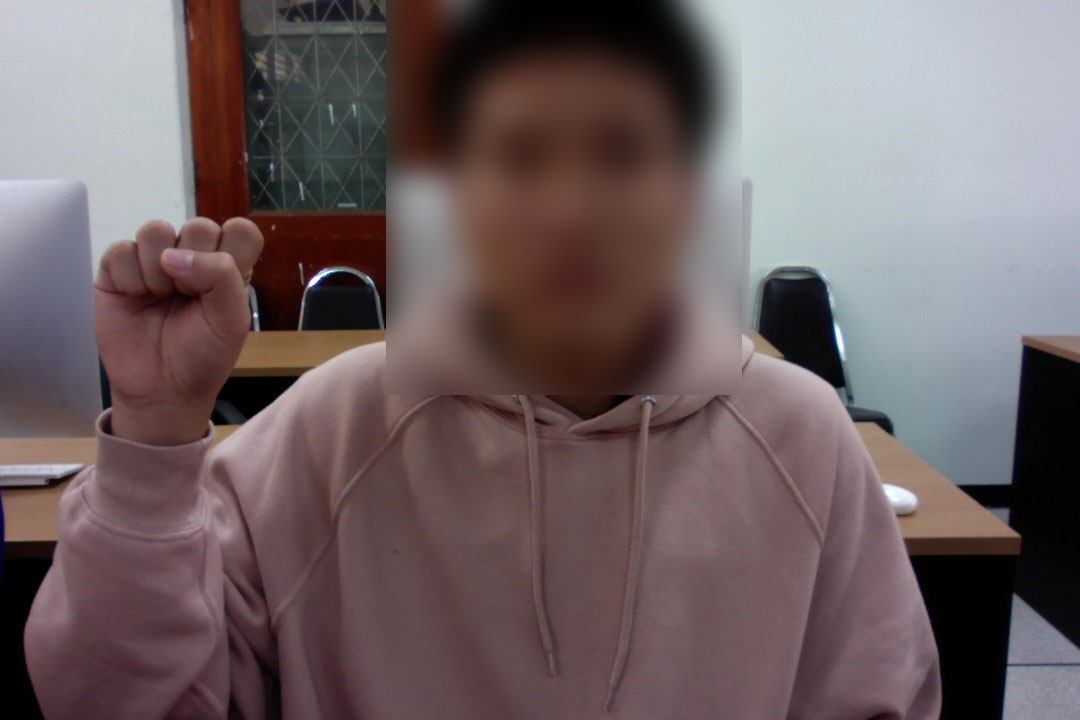sor: (84, 212, 272, 442)
